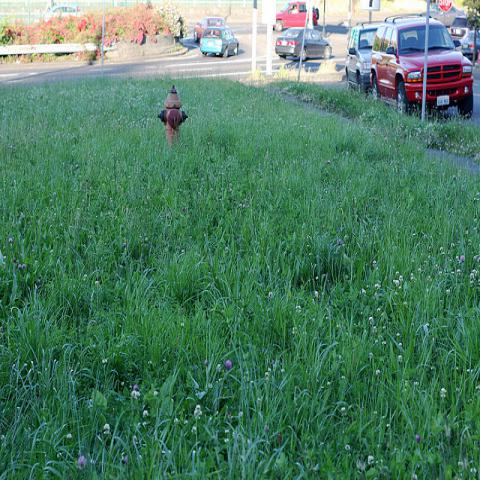car: (368, 9, 474, 118), (345, 22, 379, 92), (275, 27, 332, 60), (274, 2, 319, 30), (200, 26, 239, 58), (193, 17, 227, 42), (458, 29, 480, 60)
